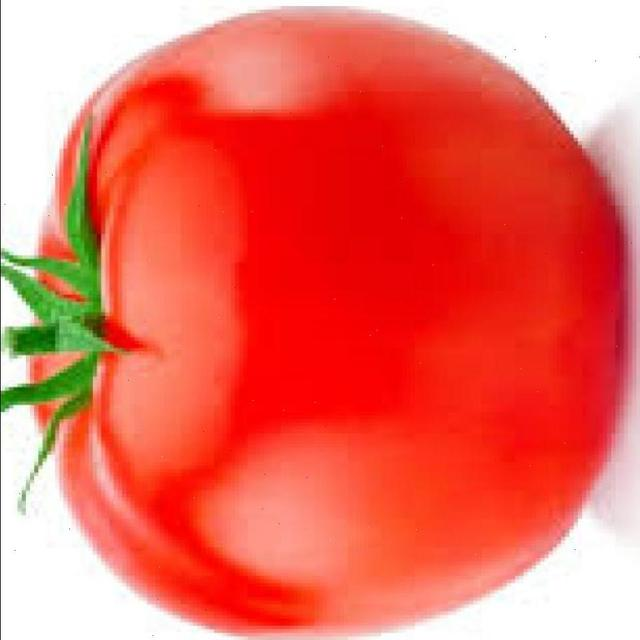Healthy Fruit: (28, 6, 419, 427)
